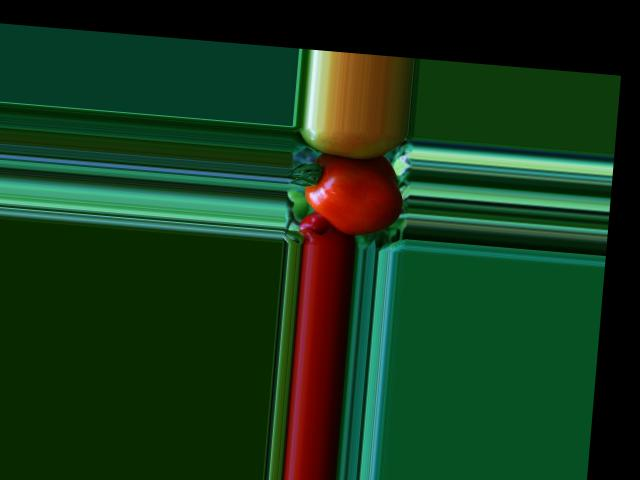tomato: (301, 153, 405, 238)
